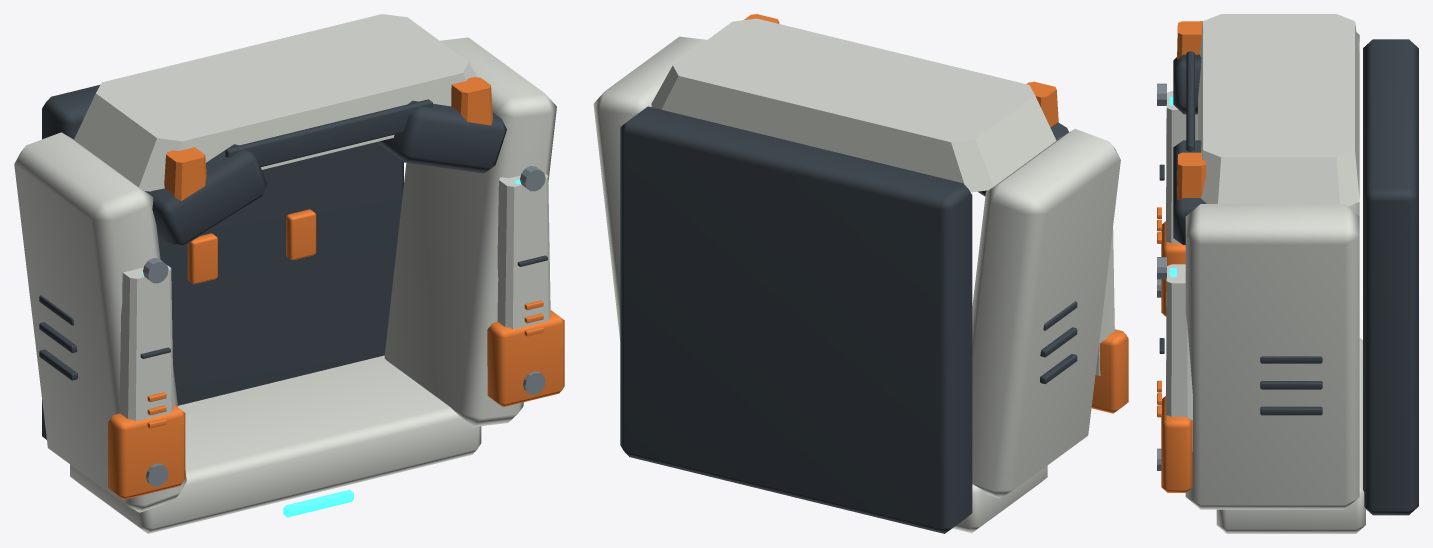
File: VXDR_ATTACK_v003_BACKPACK.fbx
3 views of the same model, side by side, from view 1: azimuth 30°, elevation 25°; view 2: azimuth 150°, elevation 25°; view 3: azimuth 270°, elevation 25° (orthographic). The views are drawn at different scales.
Visible parts, largest first — view 1: Body mounting plate, Faceted top bridge, Bottom charging bridge, Cradle armored rail, Cradle armored rail.001, Side armor panel, Side armor panel.001, Angled cradle brow, Angled cradle brow.001, Rail orange latch, Rail orange latch.001, Top service panel (+5 smaller); view 2: Body mounting plate, Cradle armored rail, Faceted top bridge, Cradle armored rail.001, Rail orange latch, Bottom charging bridge, Side armor panel, Top orange lock; view 3: Cradle armored rail.001, Faceted top bridge, Body mounting plate, Bottom charging bridge, Side armor panel.001, Rail orange latch.001, Side armor panel, Top orange lock.001, Angled cradle brow.001, Angled cradle brow, Top service panel, Top orange lock (+4 smaller).
Boxes of the visible parts, bbox=[...] form: Body mounting plate: bbox=[42, 84, 403, 439]; Faceted top bridge: bbox=[74, 14, 476, 191]; Bottom charging bridge: bbox=[70, 355, 481, 533]; Cradle armored rail: bbox=[14, 132, 186, 512]; Cradle armored rail.001: bbox=[384, 37, 556, 426]; Side armor panel: bbox=[119, 265, 173, 421]; Side armor panel.001: bbox=[497, 173, 550, 329]; Angled cradle brow: bbox=[145, 144, 266, 246]; Angled cradle brow.001: bbox=[377, 100, 506, 173]; Rail orange latch: bbox=[108, 404, 185, 499]; Rail orange latch.001: bbox=[487, 310, 564, 407]; Top service panel: bbox=[225, 99, 432, 166]; Body mounting plate: bbox=[620, 106, 972, 533]; Cradle armored rail: bbox=[972, 129, 1120, 498]; Faceted top bridge: bbox=[651, 18, 1056, 192]; Cradle armored rail.001: bbox=[593, 36, 706, 341]; Rail orange latch: bbox=[1091, 329, 1128, 413]; Bottom charging bridge: bbox=[952, 465, 1047, 532]; Side armor panel: bbox=[1095, 229, 1114, 375]; Top orange lock: bbox=[1026, 81, 1058, 127]; Cradle armored rail.001: bbox=[1185, 204, 1359, 509]; Faceted top bridge: bbox=[1198, 14, 1359, 206]; Body mounting plate: bbox=[1363, 39, 1418, 515]; Bottom charging bridge: bbox=[1216, 337, 1365, 533]; Side armor panel.001: bbox=[1166, 264, 1192, 451]; Rail orange latch.001: bbox=[1161, 396, 1192, 492]; Side armor panel: bbox=[1166, 91, 1186, 243]; Top orange lock.001: bbox=[1177, 152, 1206, 200]; Angled cradle brow.001: bbox=[1173, 140, 1206, 244]; Angled cradle brow: bbox=[1173, 54, 1201, 114]; Top service panel: bbox=[1186, 51, 1194, 151]; Top orange lock: bbox=[1177, 21, 1202, 59].
Size of the model in its own units: 40.81 by 33.85 by 21.05.
